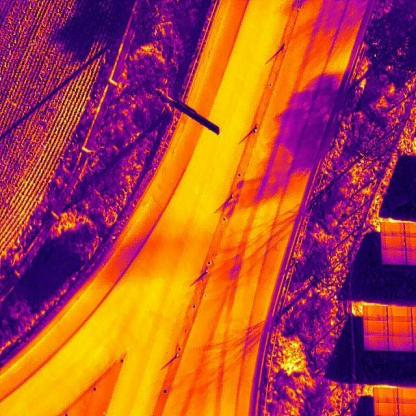No-Anomaly: (386, 306, 413, 323), (363, 304, 387, 321), (363, 320, 388, 336), (389, 322, 414, 338), (374, 388, 398, 404), (364, 337, 389, 351), (380, 223, 404, 237), (381, 237, 405, 251), (383, 251, 407, 265), (389, 337, 413, 351), (374, 403, 398, 416)
